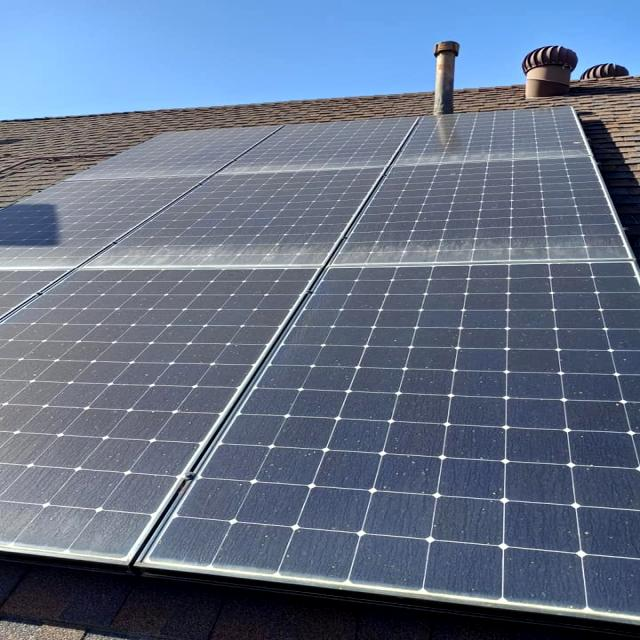dust: (264, 344, 502, 500), (0, 371, 166, 473), (514, 344, 632, 484), (0, 234, 331, 271), (186, 506, 347, 570), (496, 527, 610, 596), (340, 234, 616, 256), (0, 495, 115, 544), (406, 142, 604, 166), (218, 159, 374, 175), (365, 542, 418, 584), (85, 169, 206, 179)
